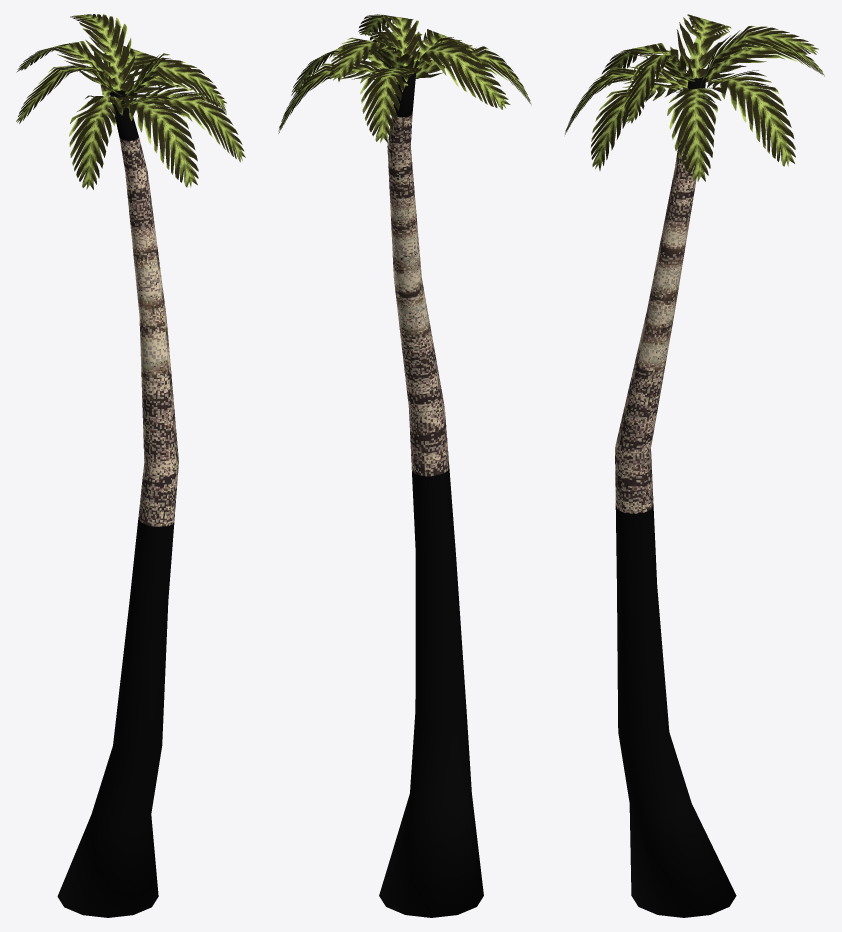
File: Palm_med.fbx
3 views of the same model, side by side, from view 1: azimuth 30°, elevation 25°; view 2: azimuth 150°, elevation 25°; view 3: azimuth 270°, elevation 25° (orthographic). The views are drawn at different scales.
Visible parts, largest first — view 1: Palm_med, PalmLeaf.009, PalmLeaf.010, PalmLeaf.013, PalmLeaf.015, PalmLeaf.017, PalmLeaf.014, PalmLeaf.012, PalmLeaf.011, PalmLeaf.016; view 2: Palm_med, PalmLeaf.014, PalmLeaf.012, PalmLeaf.013, PalmLeaf.017, PalmLeaf.010, PalmLeaf.011, PalmLeaf.016, PalmLeaf.009; view 3: Palm_med, PalmLeaf.011, PalmLeaf.016, PalmLeaf.013, PalmLeaf.015, PalmLeaf.017, PalmLeaf.014, PalmLeaf.012, PalmLeaf.009, PalmLeaf.010.
Part boxes in pixels (x1,y1,x2,y2): Palm_med: [57, 90, 178, 917]; PalmLeaf.009: [117, 93, 198, 187]; PalmLeaf.010: [69, 95, 133, 189]; PalmLeaf.013: [70, 14, 136, 92]; PalmLeaf.015: [126, 83, 245, 162]; PalmLeaf.017: [125, 53, 226, 108]; PalmLeaf.014: [16, 65, 121, 123]; PalmLeaf.012: [16, 41, 111, 92]; PalmLeaf.011: [100, 46, 161, 96]; PalmLeaf.016: [127, 63, 226, 114]; Palm_med: [379, 70, 483, 917]; PalmLeaf.014: [409, 35, 510, 109]; PalmLeaf.012: [360, 67, 421, 142]; PalmLeaf.013: [329, 37, 413, 81]; PalmLeaf.017: [358, 14, 420, 66]; PalmLeaf.010: [415, 40, 531, 105]; PalmLeaf.011: [278, 62, 408, 133]; PalmLeaf.016: [291, 45, 392, 95]; PalmLeaf.009: [409, 29, 476, 70]; Palm_med: [615, 77, 736, 917]; PalmLeaf.011: [707, 70, 795, 166]; PalmLeaf.016: [667, 87, 725, 181]; PalmLeaf.013: [699, 25, 818, 88]; PalmLeaf.015: [590, 82, 682, 170]; PalmLeaf.017: [623, 55, 694, 123]; PalmLeaf.014: [676, 14, 731, 78]; PalmLeaf.012: [705, 41, 824, 82]; PalmLeaf.009: [565, 66, 688, 134]; PalmLeaf.010: [600, 43, 691, 87].
Bounding box in the file's own units: 269 × 1025 × 282.
